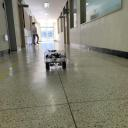cart: (44, 50, 67, 69)
